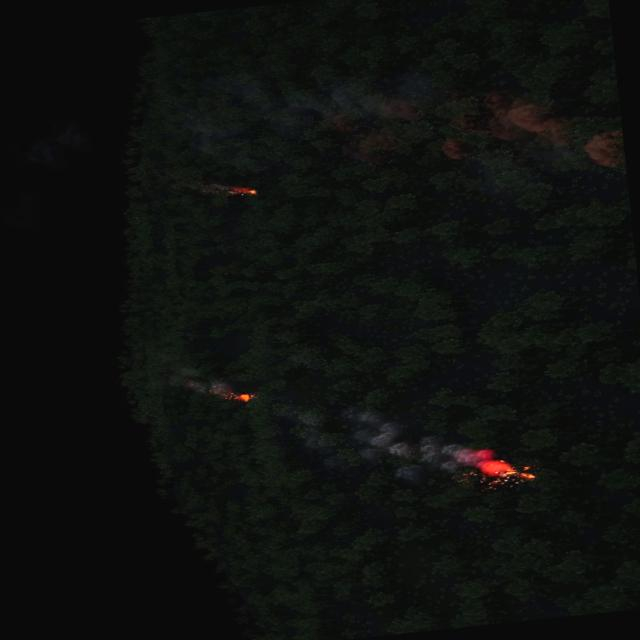fire: (478, 449, 537, 486), (227, 184, 256, 196), (232, 390, 255, 402)
smoke: (288, 390, 496, 496), (428, 84, 568, 164), (164, 359, 231, 398), (582, 126, 626, 168), (196, 178, 233, 198)
